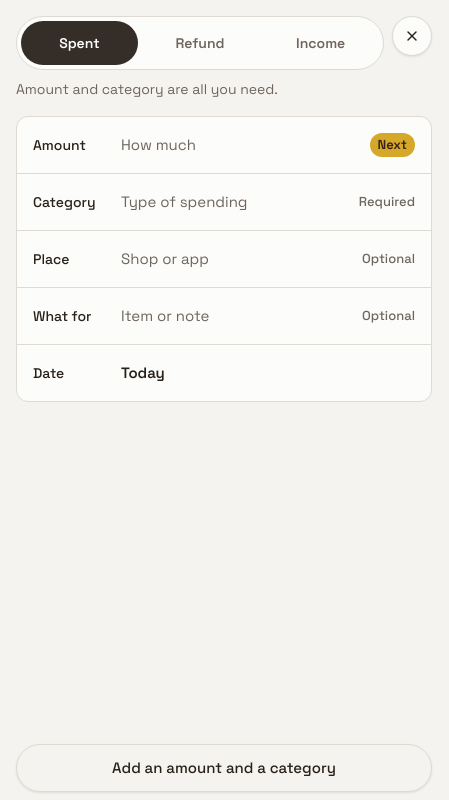
/log picks on click (MOB-R82 B2) › a pick still fills only empty or suggested fields: her own category stays
Click the button "Category Type of spending Required": (224, 202) [17, 174, 431, 230]
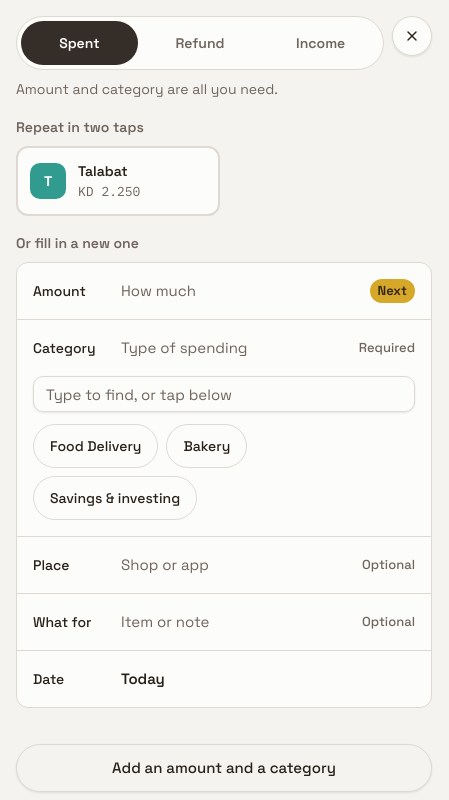
Click the button "Bakery": (207, 446) [166, 424, 247, 468]
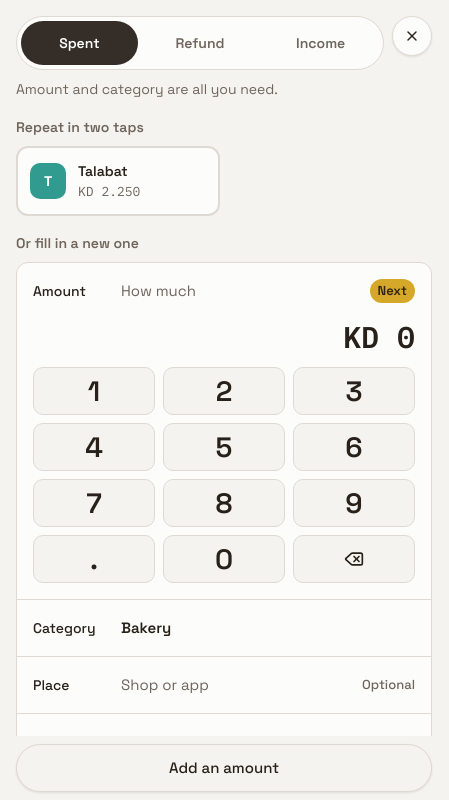
Click the button "Place Shop or app Optional": (51, 685) [17, 657, 431, 713]
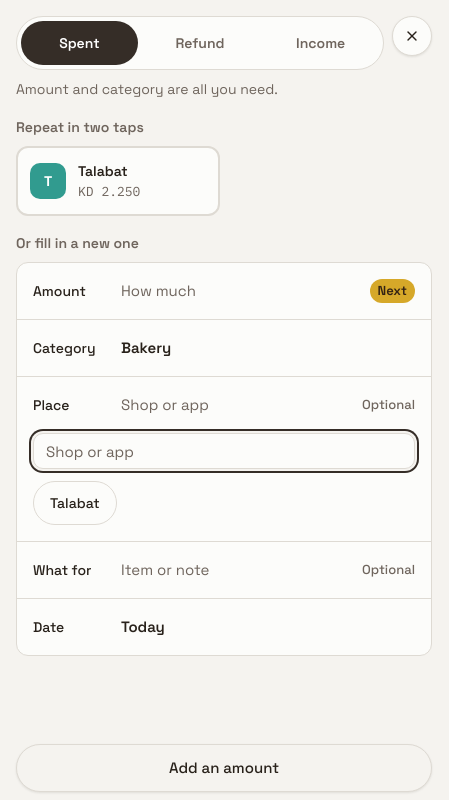
In the field named "Search places": (224, 451) [33, 433, 415, 469], type "tal"
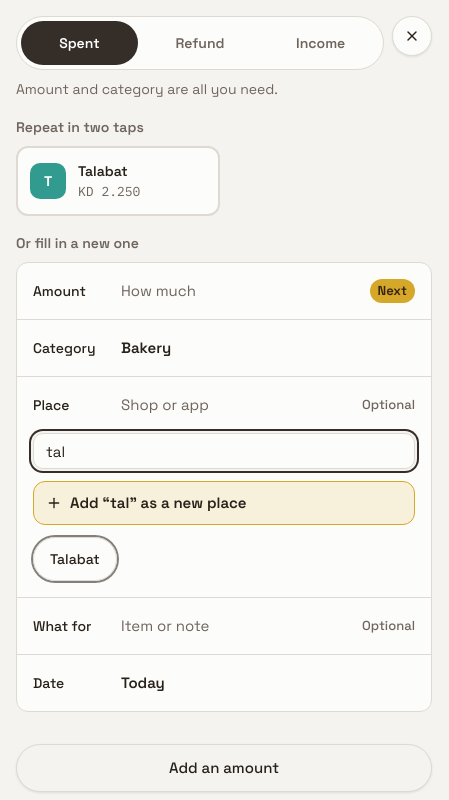
Click the button "Talabat": (75, 559) [33, 537, 117, 581]
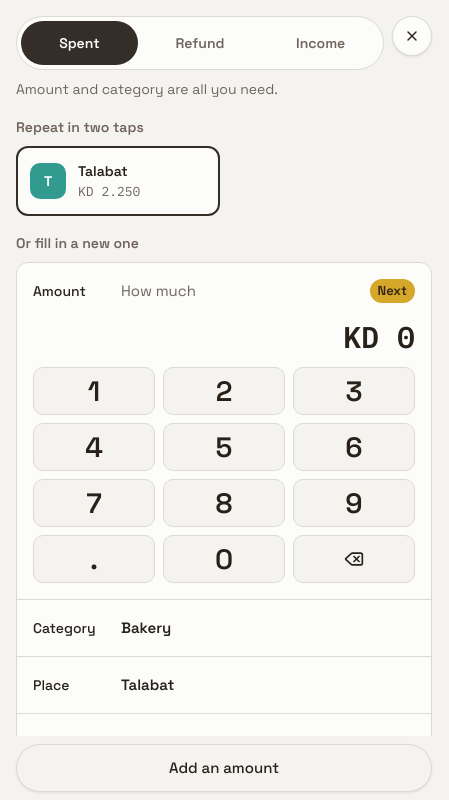
Check: the button "Category Bakery" is shown, box [17, 600, 431, 656]
Check: the button "Place Talabat" is shown, box [17, 657, 431, 713]
